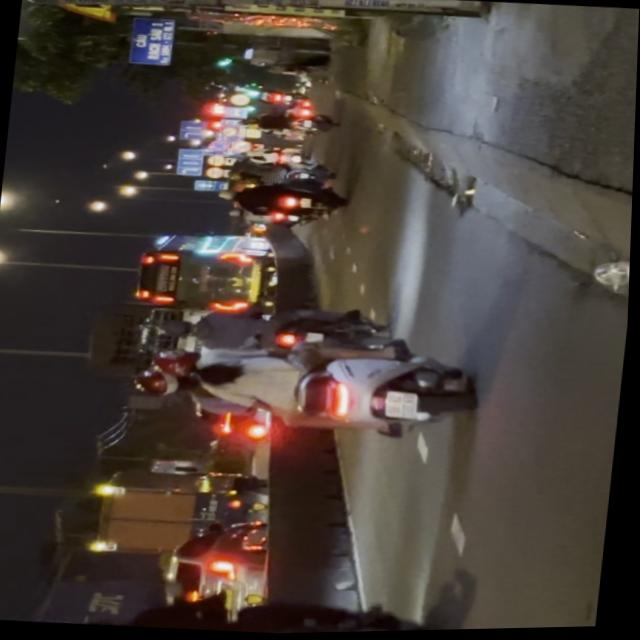helmet: (133, 367, 192, 400), (148, 351, 201, 382)
licenseplate: (127, 331, 482, 452), (54, 579, 450, 639)
nohelmet: (385, 392, 420, 421)
